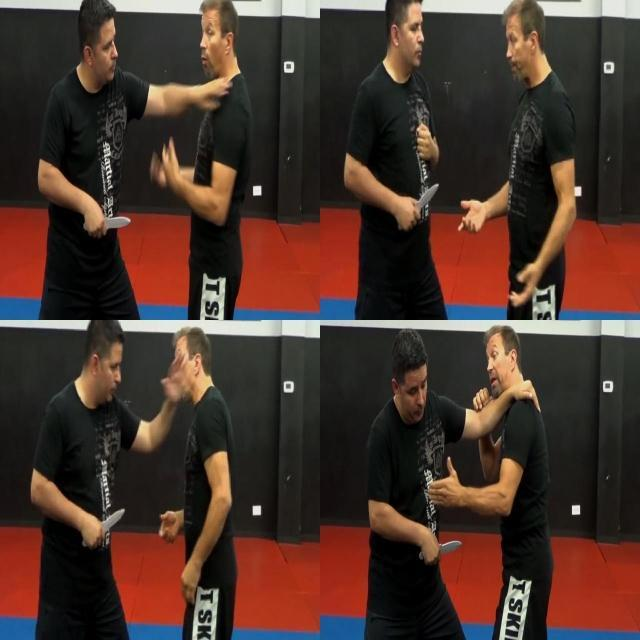-: (396, 179, 439, 233), (80, 505, 125, 549), (81, 211, 132, 238), (418, 535, 463, 564)
